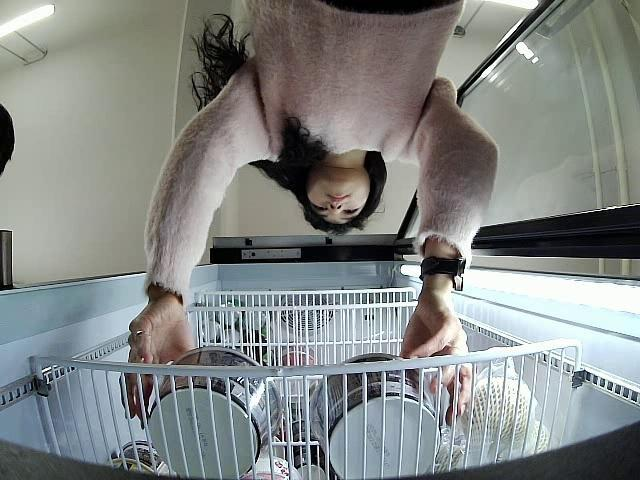07_buldak_L: (307, 350, 446, 479), (146, 348, 280, 476)
